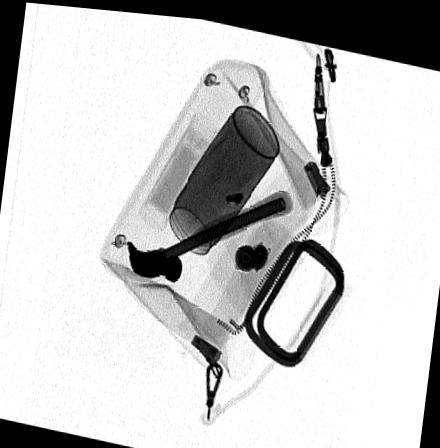Hammer: (125, 184, 292, 280)
